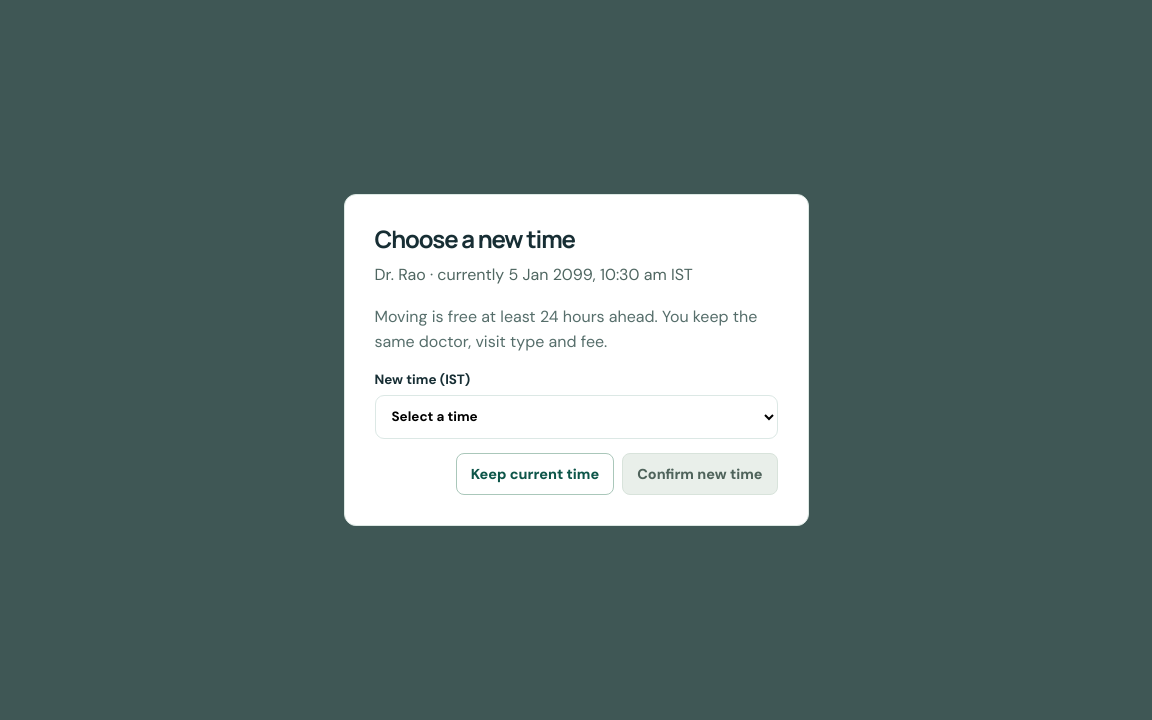
Test: RescheduleDialog › shows the conflict, refreshes the list and keeps the dialog open when the time was just taken
Select "7 Jan 2099, 10:30 am" in the dropdown labelled "New time (IST)" at point(576, 417), box [374,395,778,439]
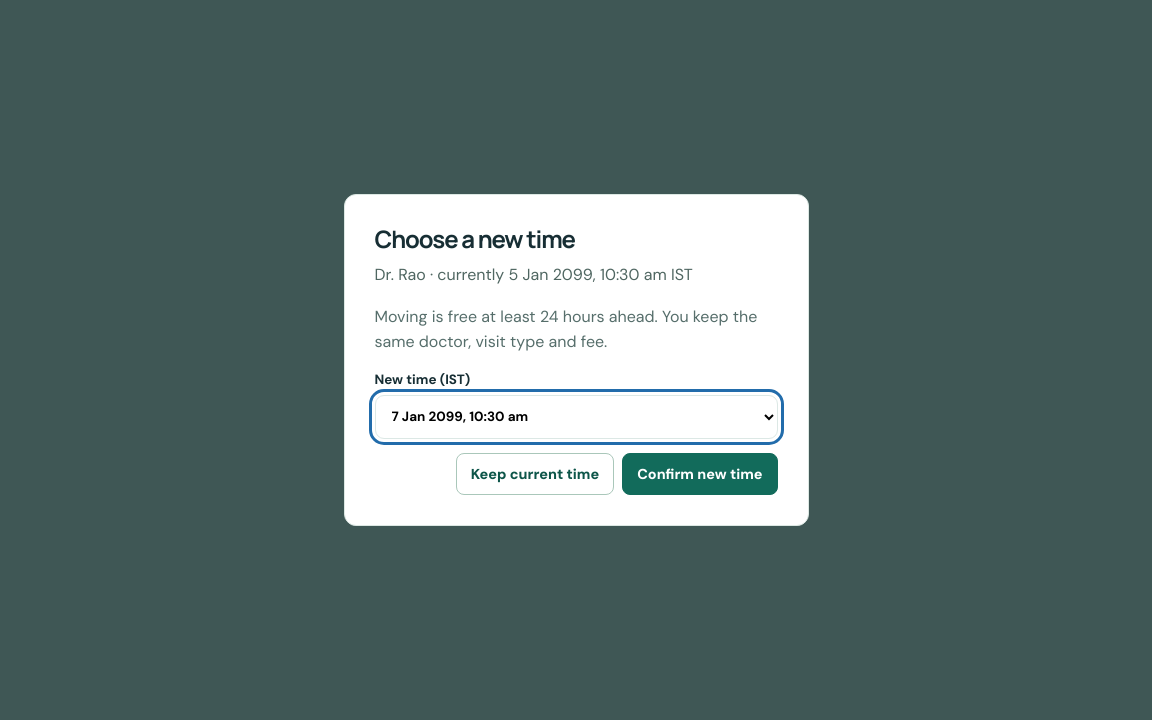
Click the button "Confirm new time" at point(700, 474), box [622,453,778,495]
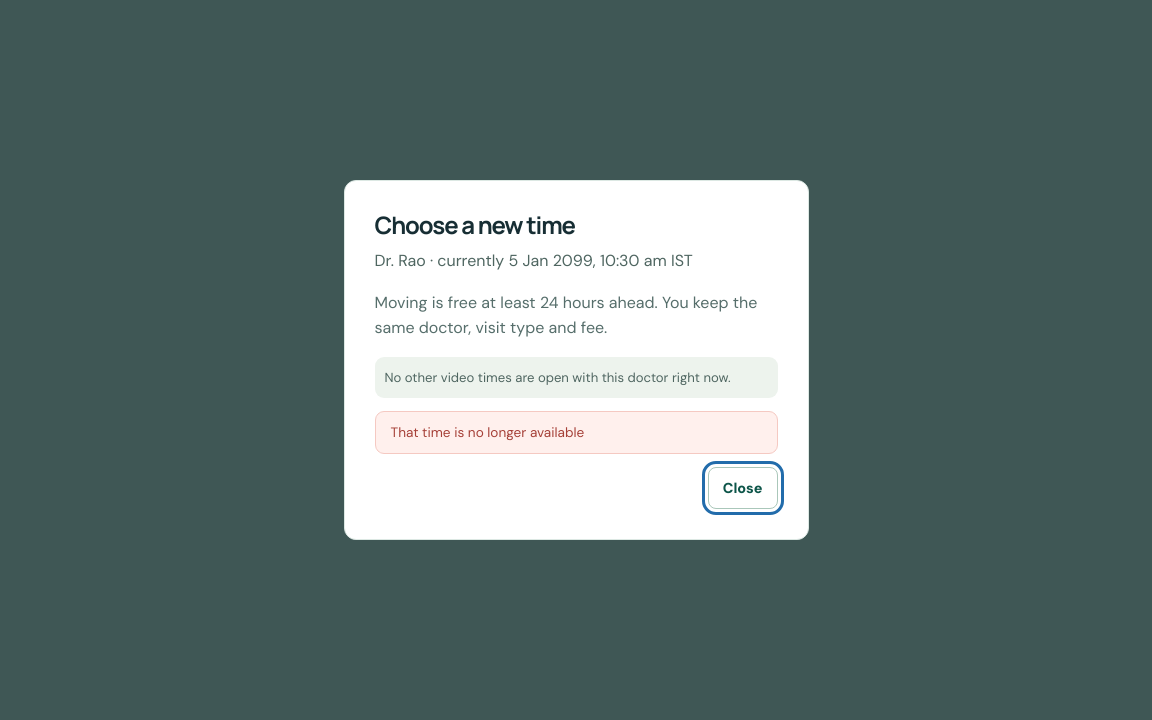
expect the text "That time is no longer available" is shown: met, box [374,411,778,454]
